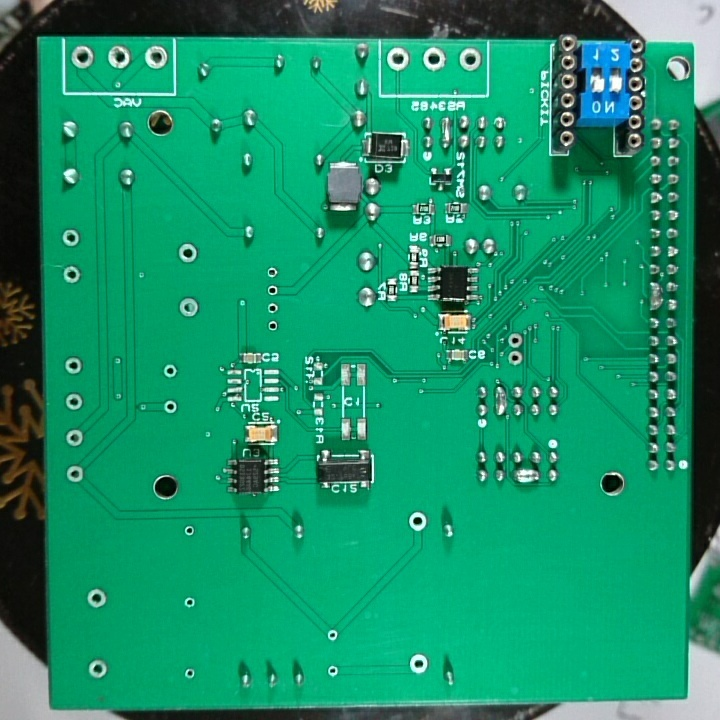F: (419, 45, 448, 74), (142, 44, 170, 72), (385, 45, 411, 75), (457, 46, 482, 75), (105, 44, 132, 70), (69, 43, 95, 70), (175, 295, 202, 320), (84, 586, 109, 612), (406, 509, 429, 536), (176, 240, 199, 266), (59, 227, 85, 250), (406, 652, 431, 675), (85, 658, 111, 680), (60, 264, 83, 288), (62, 355, 85, 378), (63, 463, 86, 486), (63, 390, 85, 414), (64, 426, 85, 449), (160, 361, 180, 383), (505, 348, 525, 368), (161, 398, 180, 418), (505, 331, 526, 349), (182, 592, 198, 613), (179, 665, 198, 682), (263, 264, 280, 282), (264, 298, 281, 316), (323, 627, 341, 644), (324, 663, 342, 680), (265, 315, 282, 332), (265, 282, 279, 299), (182, 523, 196, 538)
P: (510, 465, 539, 486), (647, 279, 664, 313), (439, 114, 453, 151), (492, 383, 506, 417)
